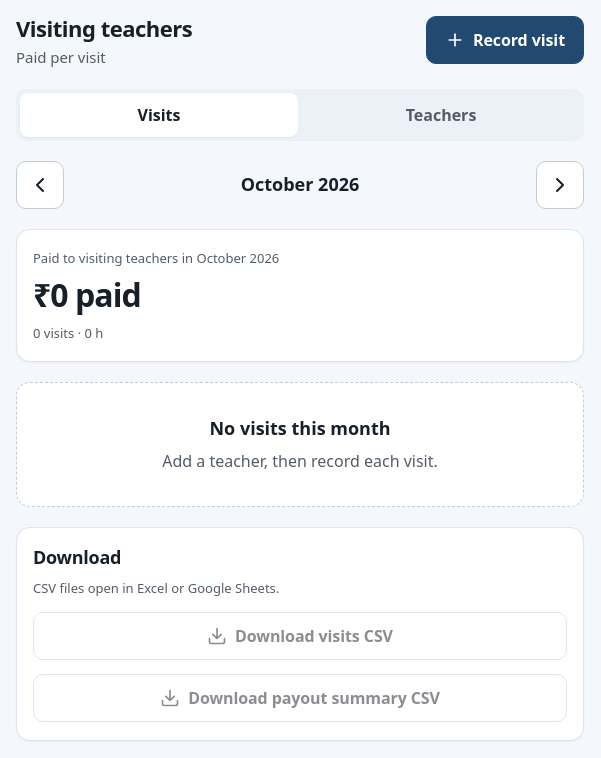
it: teachers › rejects a teacher without a name
The width and height of the screenshot is (601, 758).
Step 1. Click the button "Teachers" → (441,115), box x1=302 y1=93 x2=580 y2=137
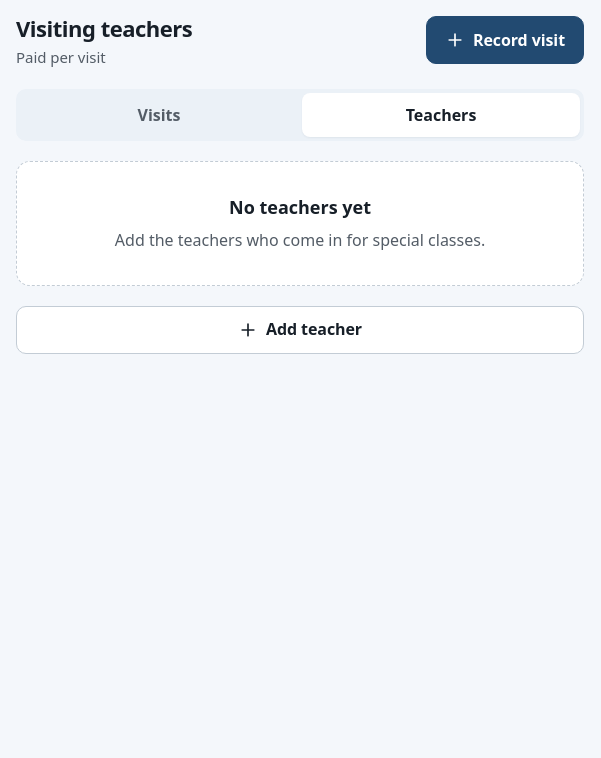
Step 2. Click the button "Add teacher" → (300,330), box x1=16 y1=306 x2=584 y2=354
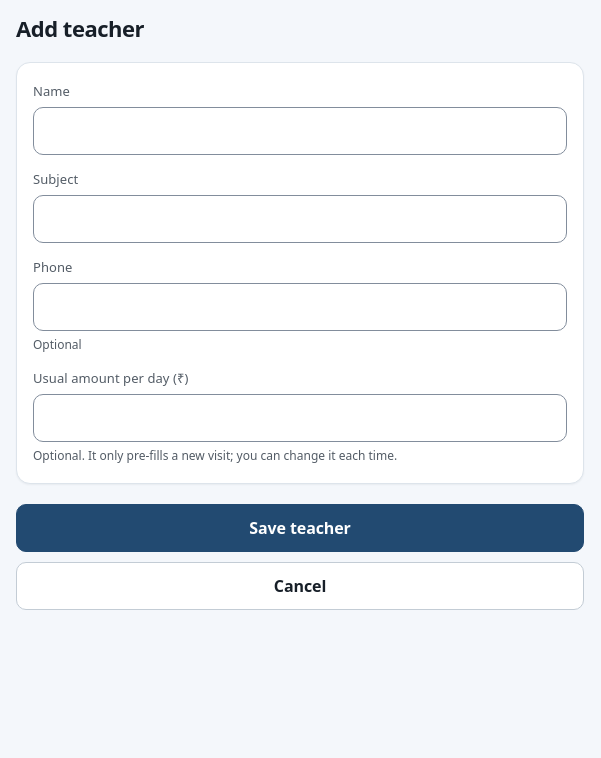
Step 3. Click the button "Save teacher" → (300,528), box x1=16 y1=504 x2=584 y2=552
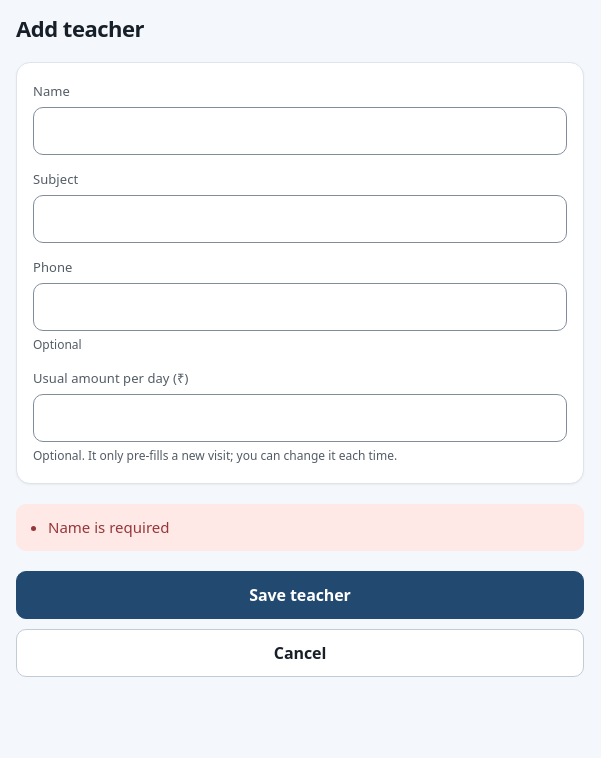
Check: the list item "Name is required" is shown, box x1=48 y1=517 x2=170 y2=537
